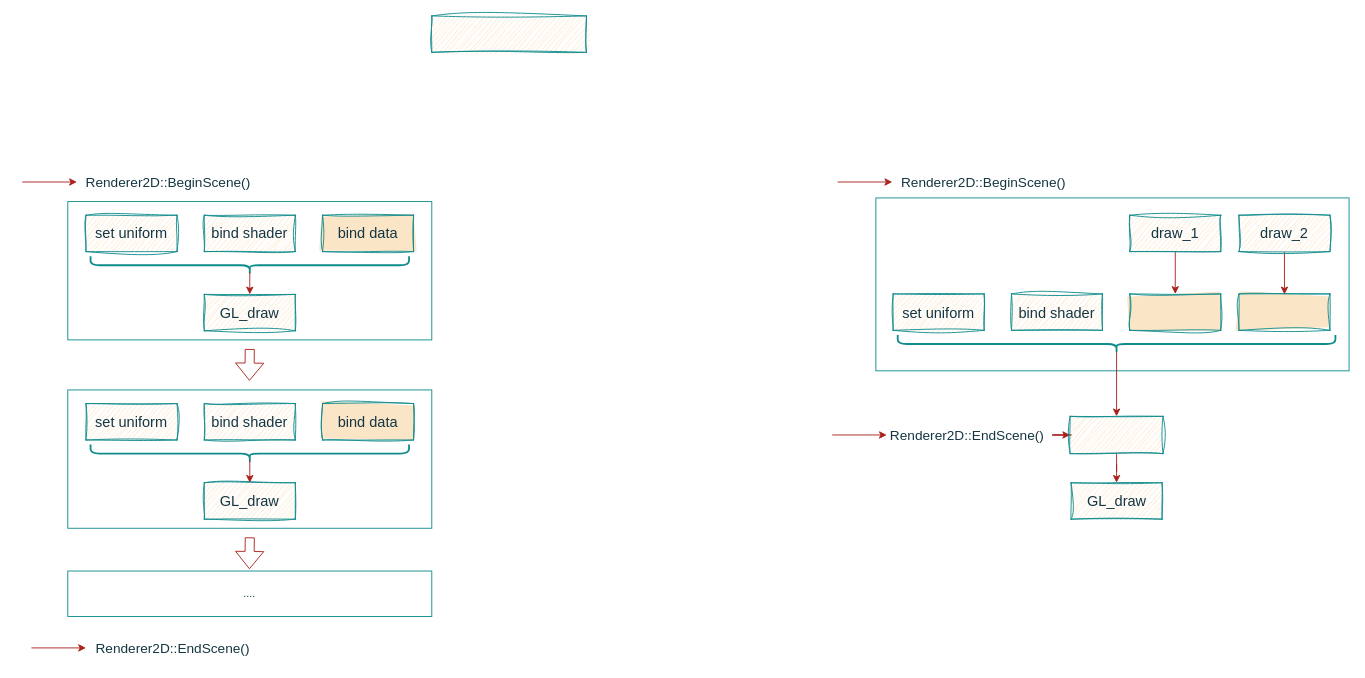
This 1365x678 diagram has some shape labels left out. The shapes that lost their labels are listed below. From the top down, each one's centre as x and y in pixels, then its label:
the point at 1175,311: add data1
the point at 1284,311: add data2
the point at 1116,434: Flush
